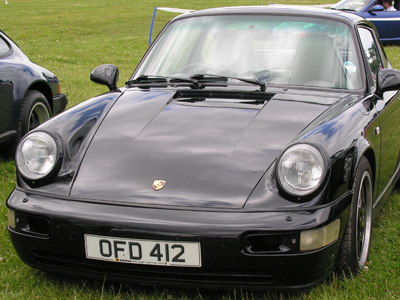licencePlate: (82, 231, 211, 272)
